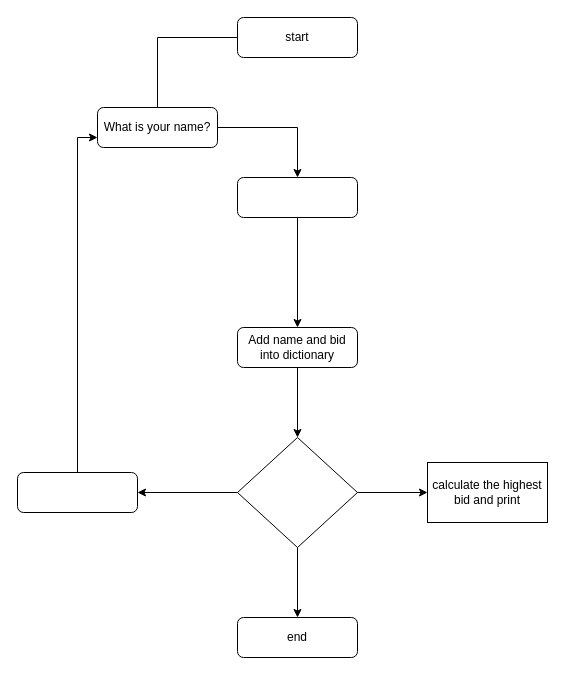
Image size: 565x675. Some labels were removed from this diagram. The box of each missing label's shape, as (x1, y1, x2, y2) in pixels:
Any other bidder to to bid if "yes" than "no": (236, 436, 358, 548)
clear: (16, 472, 138, 512)
What is your bid?: (236, 176, 358, 218)
